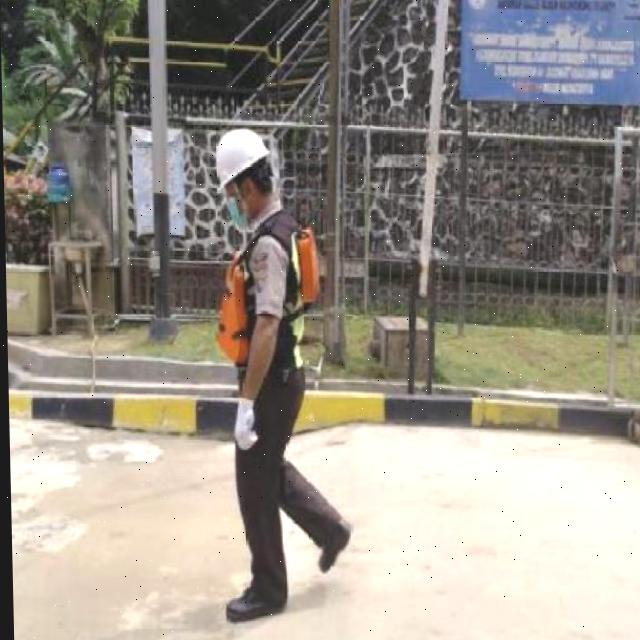Gloves: (231, 397, 257, 450)
Helmet: (214, 127, 271, 192)
Safety-Boot: (314, 518, 352, 573)
Safety-Vest: (212, 209, 318, 369)
